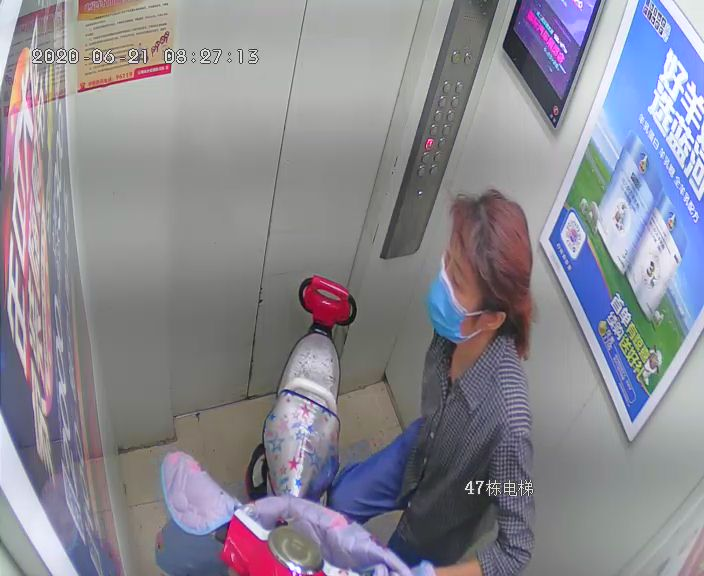Electric-bicycle: (169, 276, 406, 576)
